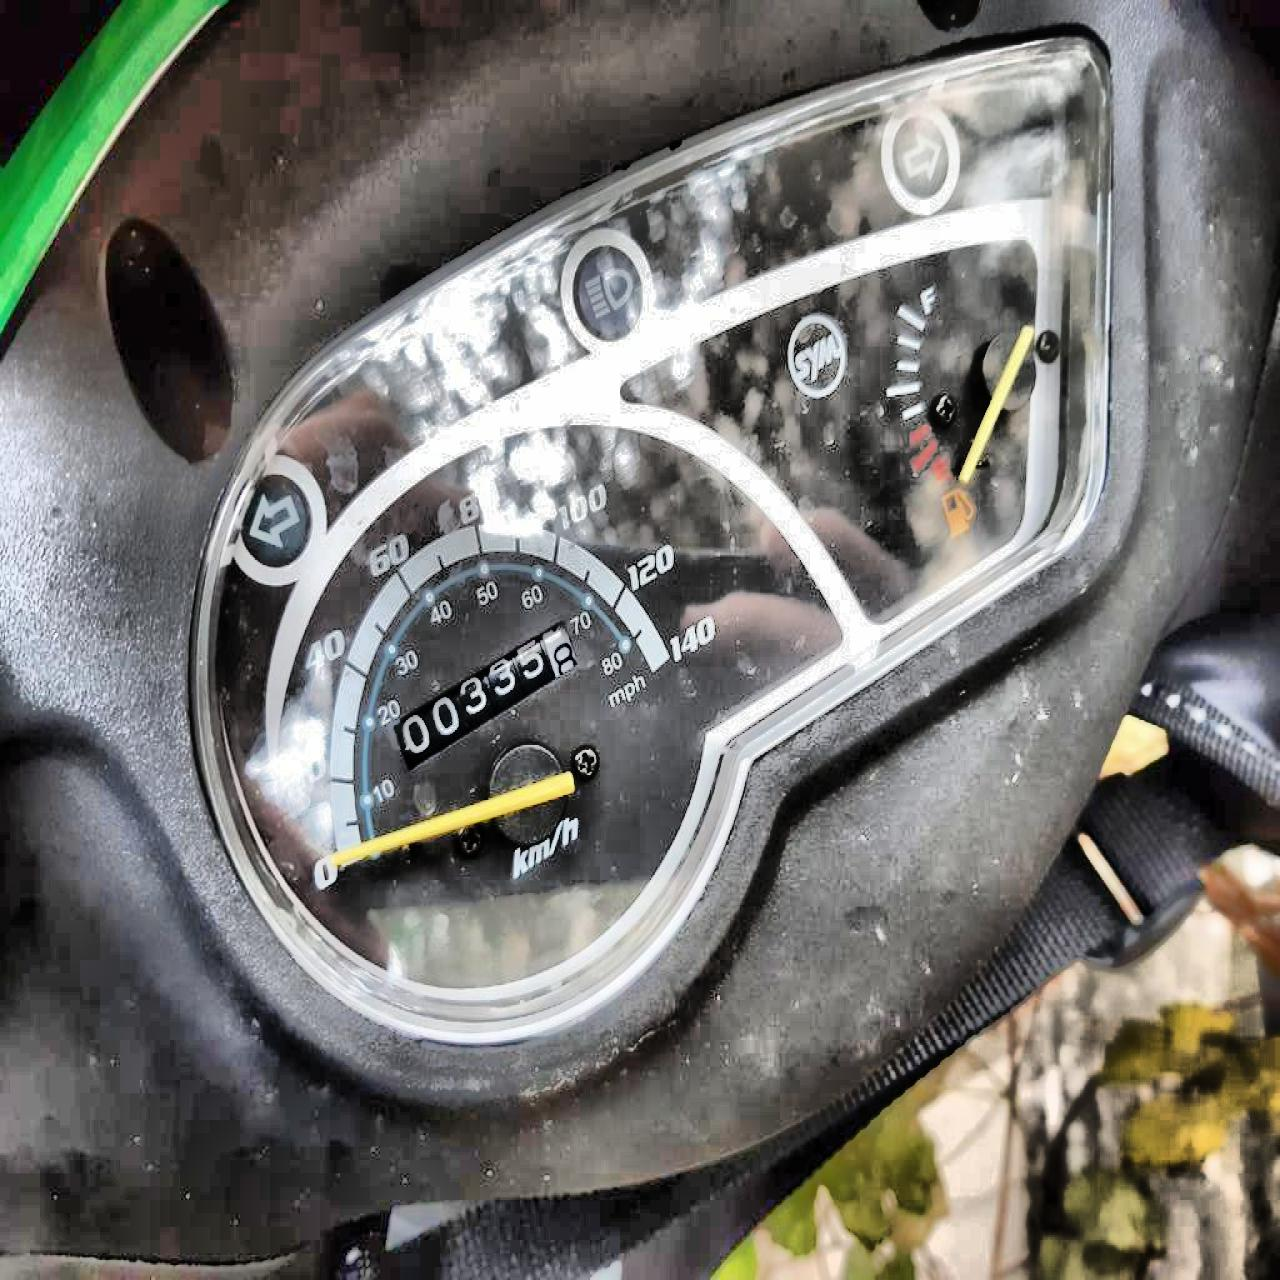0: (400, 715, 430, 754), (430, 694, 459, 734), (403, 647, 418, 668), (387, 696, 399, 716), (579, 610, 590, 628)
3: (457, 675, 486, 713), (488, 659, 517, 695), (394, 653, 407, 675)
5: (515, 639, 544, 676)
7: (567, 613, 581, 635)
8: (549, 641, 577, 673)
odometer: (387, 617, 594, 768)
